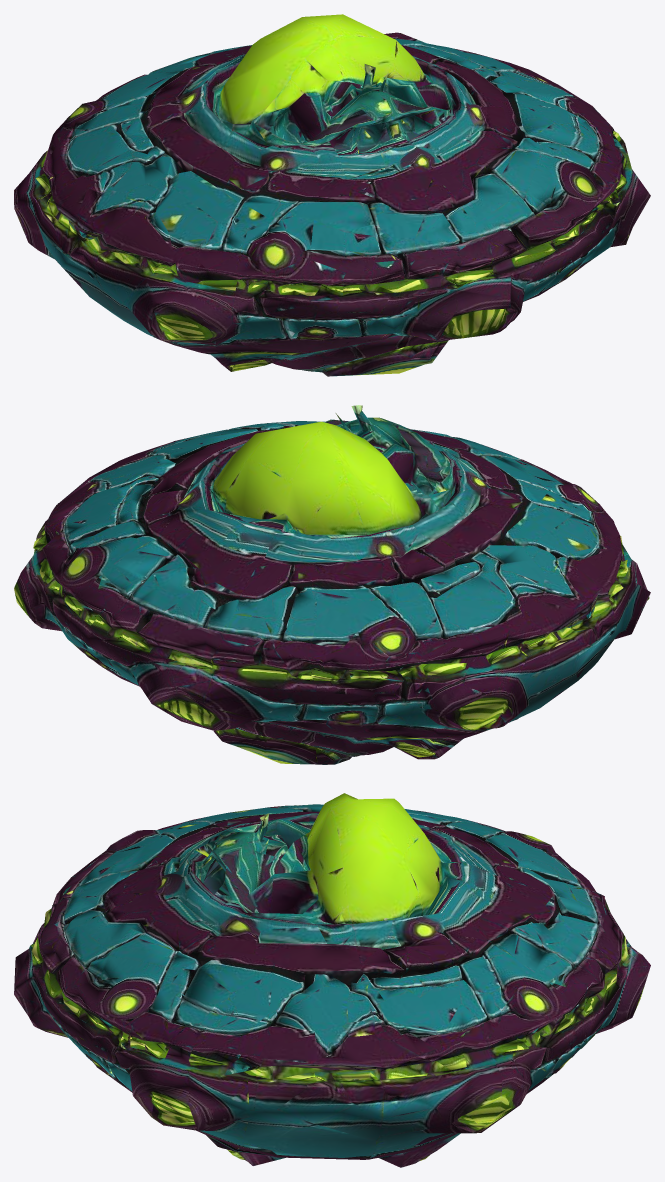
Rendered from mothership.glb.
3 renders of one model, top to bottom at view 1: azimuth 30°, elevation 25°; view 2: azimuth 150°, elevation 25°; view 3: azimuth 270°, elevation 25°, orthographic. The views are drawn at different scales.
Bounding box in the file's own units: 1.88 × 1.1 × 1.87.
Materials: 1 (1 with a texture image).
